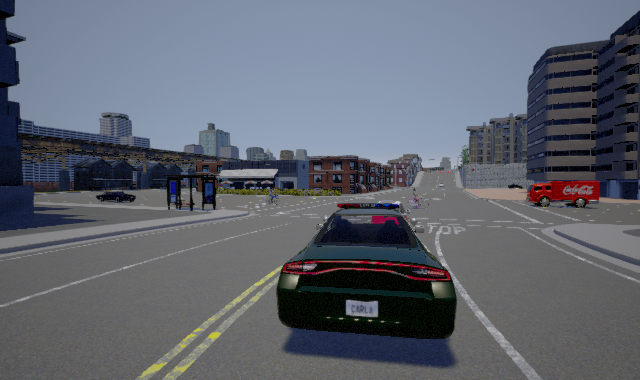bike: (408, 187, 430, 209), (264, 191, 282, 204)
vehicle: (276, 200, 457, 339), (526, 181, 599, 208), (96, 191, 136, 203)
